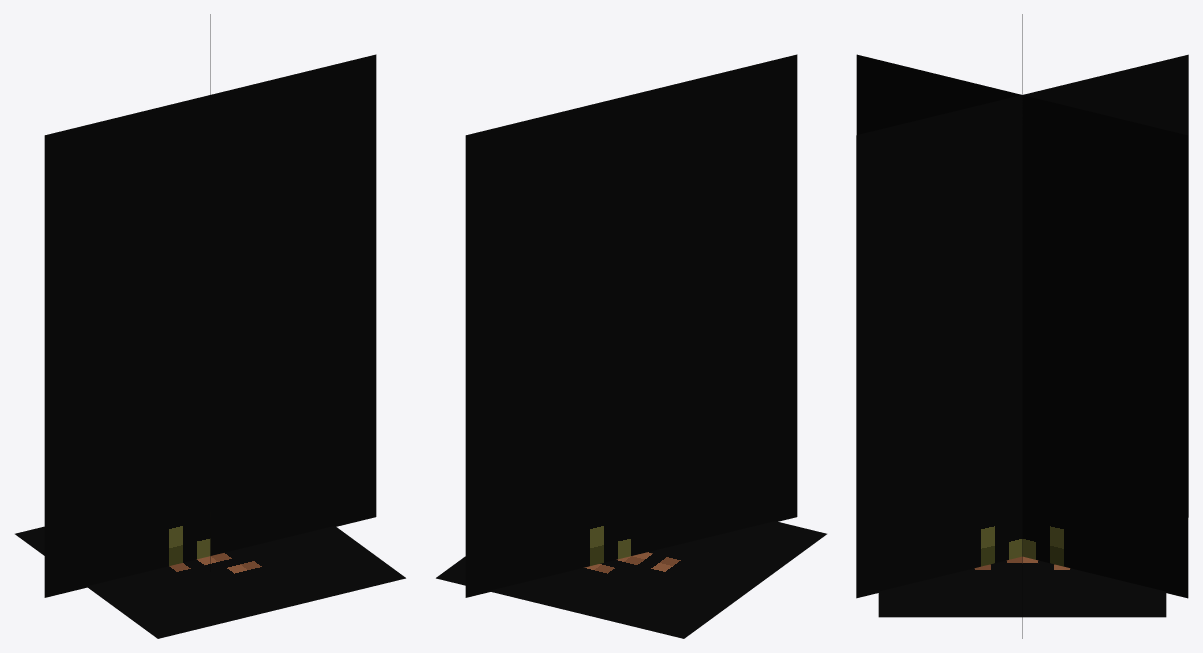
File: lilac_seed.gltf
3 views of the same model, side by side, from view 1: azimuth 30°, elevation 25°; view 2: azimuth 150°, elevation 25°; view 3: azimuth 270°, elevation 25° (orthographic).
Visible parts, largest first — view 1: Plane.213; view 2: Plane.213; view 3: Plane.213.
Part boxes in pixels (<box>): Plane.213: <box>15,14,405,638</box>; Plane.213: <box>436,54,826,638</box>; Plane.213: <box>856,14,1188,638</box>.
Size of the model in its own units: 2.4 by 3.2 by 2.08.
Materials: 2 (2 with a texture image).
